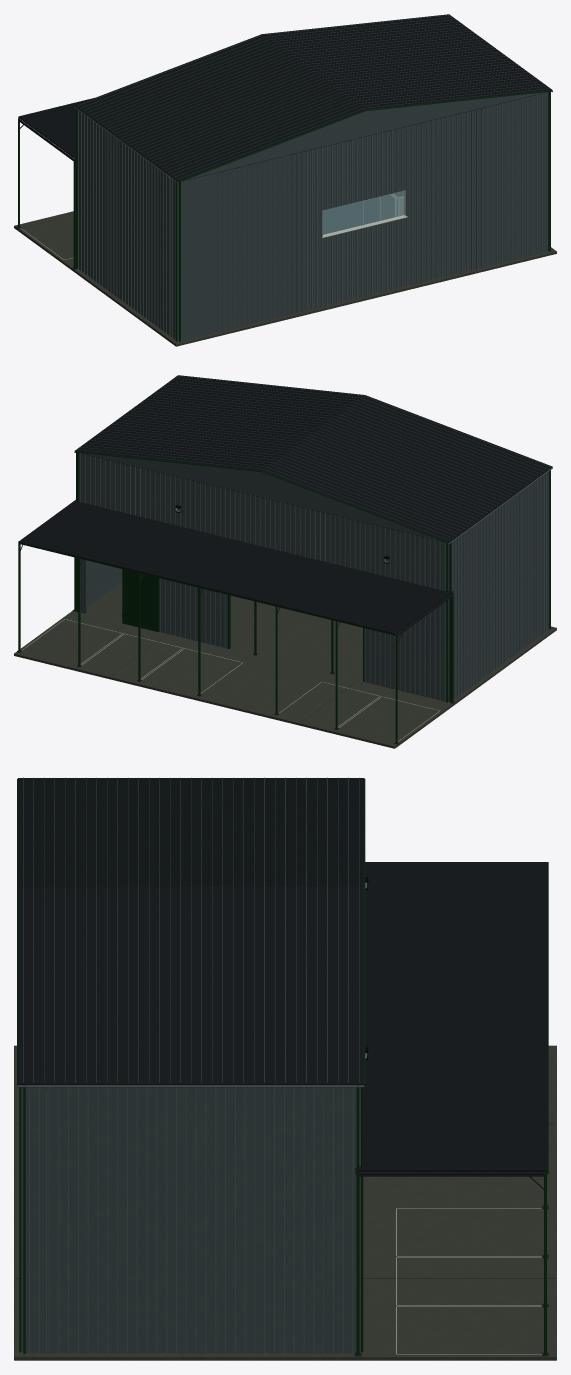
File: EquipmentYard.gltf
The picture shows the model from 3 angles, top to bottom: view 1: azimuth 30°, elevation 25°; view 2: azimuth 150°, elevation 25°; view 3: azimuth 270°, elevation 25°; orthographic projection. The views are drawn at different scales.
Visible parts, largest first — view 1: EquipmentYard, EquipmentYard__Body, EquipmentYard__Walls, EquipmentYard__Roof, EquipmentYard__Roof_Right, EquipmentYard__Floor, EquipmentYard__Glass_YardRear, EquipmentYard__Roof_LeanTo; view 2: EquipmentYard, EquipmentYard__Body, EquipmentYard__Floor, EquipmentYard__Roof, EquipmentYard__Roof_LeanTo, EquipmentYard__Roof_Right, EquipmentYard__Door; view 3: EquipmentYard, EquipmentYard__Roof_Right, EquipmentYard__Roof_LeanTo, EquipmentYard__Floor, EquipmentYard__Roof, EquipmentYard__Body.
Part boxes in pixels (x1,y1,x2,y2): EquipmentYard: [78, 92, 548, 340]; EquipmentYard__Body: [16, 15, 552, 341]; EquipmentYard__Walls: [178, 182, 548, 340]; EquipmentYard__Roof: [74, 34, 365, 182]; EquipmentYard__Roof_Right: [262, 14, 552, 109]; EquipmentYard__Floor: [14, 191, 556, 346]; EquipmentYard__Glass_YardRear: [323, 191, 404, 234]; EquipmentYard__Roof_LeanTo: [19, 98, 93, 159]; EquipmentYard: [79, 453, 549, 701]; EquipmentYard__Body: [17, 376, 552, 744]; EquipmentYard__Floor: [14, 582, 556, 748]; EquipmentYard__Roof: [261, 395, 552, 542]; EquipmentYard__Roof_LeanTo: [18, 500, 452, 634]; EquipmentYard__Roof_Right: [74, 375, 365, 470]; EquipmentYard__Door: [122, 569, 159, 632]; EquipmentYard: [21, 1053, 366, 1353]; EquipmentYard__Roof_Right: [18, 887, 364, 1085]; EquipmentYard__Roof_LeanTo: [355, 862, 548, 1171]; EquipmentYard__Floor: [14, 1045, 556, 1360]; EquipmentYard__Roof: [18, 778, 364, 887]; EquipmentYard__Body: [16, 777, 554, 1356].
Bounding box in the file's own units: 12.8 × 6.1 × 9.44.
Materials: 3 (1 with a texture image).
